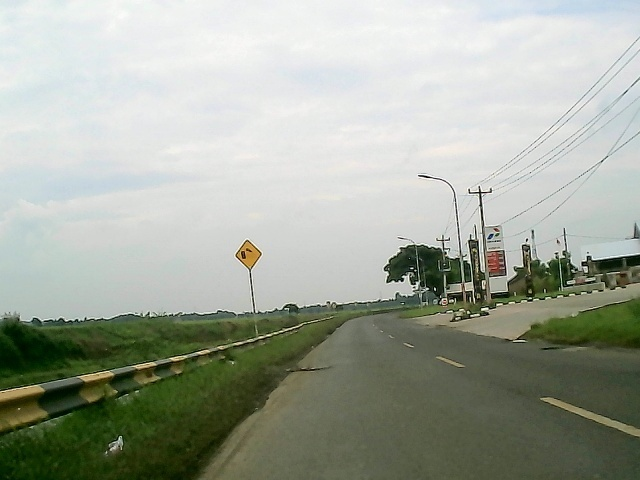Peringatan tepi air: (234, 239, 264, 271)
